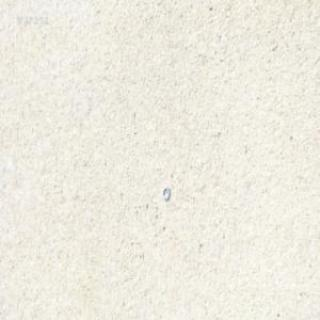Washertrack_idkeyframe: (161, 184, 169, 200)
